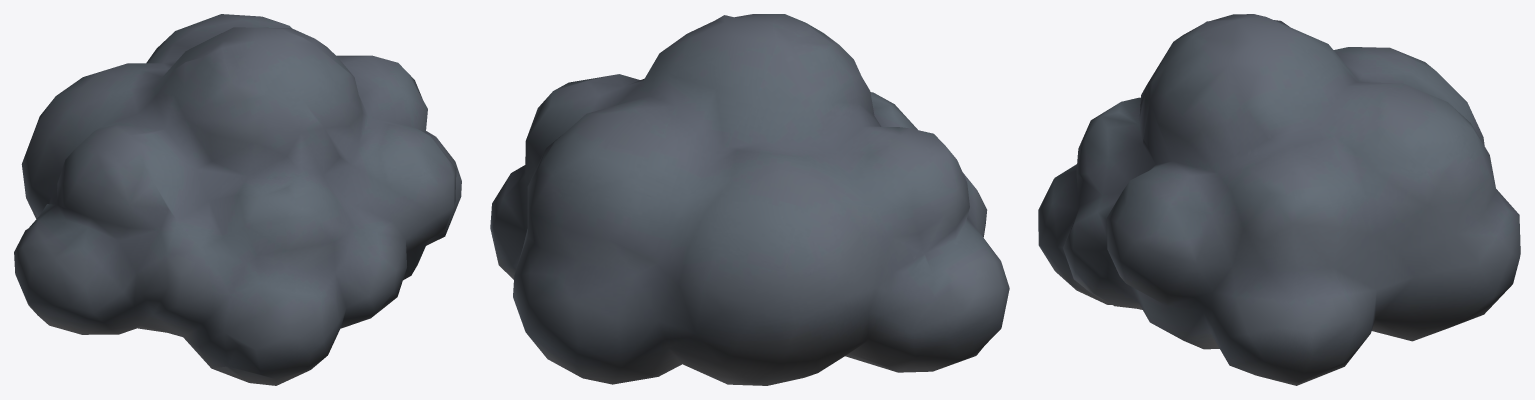
The model's file is storm.glb.
The picture shows the model from 3 angles, left to right: view 1: azimuth 30°, elevation 25°; view 2: azimuth 150°, elevation 25°; view 3: azimuth 270°, elevation 25°; orthographic projection. The views are drawn at different scales.
Visible parts, largest first — view 1: tripo_node_0a174577-d108-4f7d-96ed-8b071def923d; view 2: tripo_node_0a174577-d108-4f7d-96ed-8b071def923d; view 3: tripo_node_0a174577-d108-4f7d-96ed-8b071def923d.
Part boxes in pixels (left/top/right/bottom): tripo_node_0a174577-d108-4f7d-96ed-8b071def923d: left=14, top=14, right=461, bottom=385; tripo_node_0a174577-d108-4f7d-96ed-8b071def923d: left=490, top=14, right=1009, bottom=385; tripo_node_0a174577-d108-4f7d-96ed-8b071def923d: left=1038, top=14, right=1520, bottom=385.
Bounding box in the file's own units: 0.9678 × 0.6072 × 0.8791.
1 material, 1 textured.
